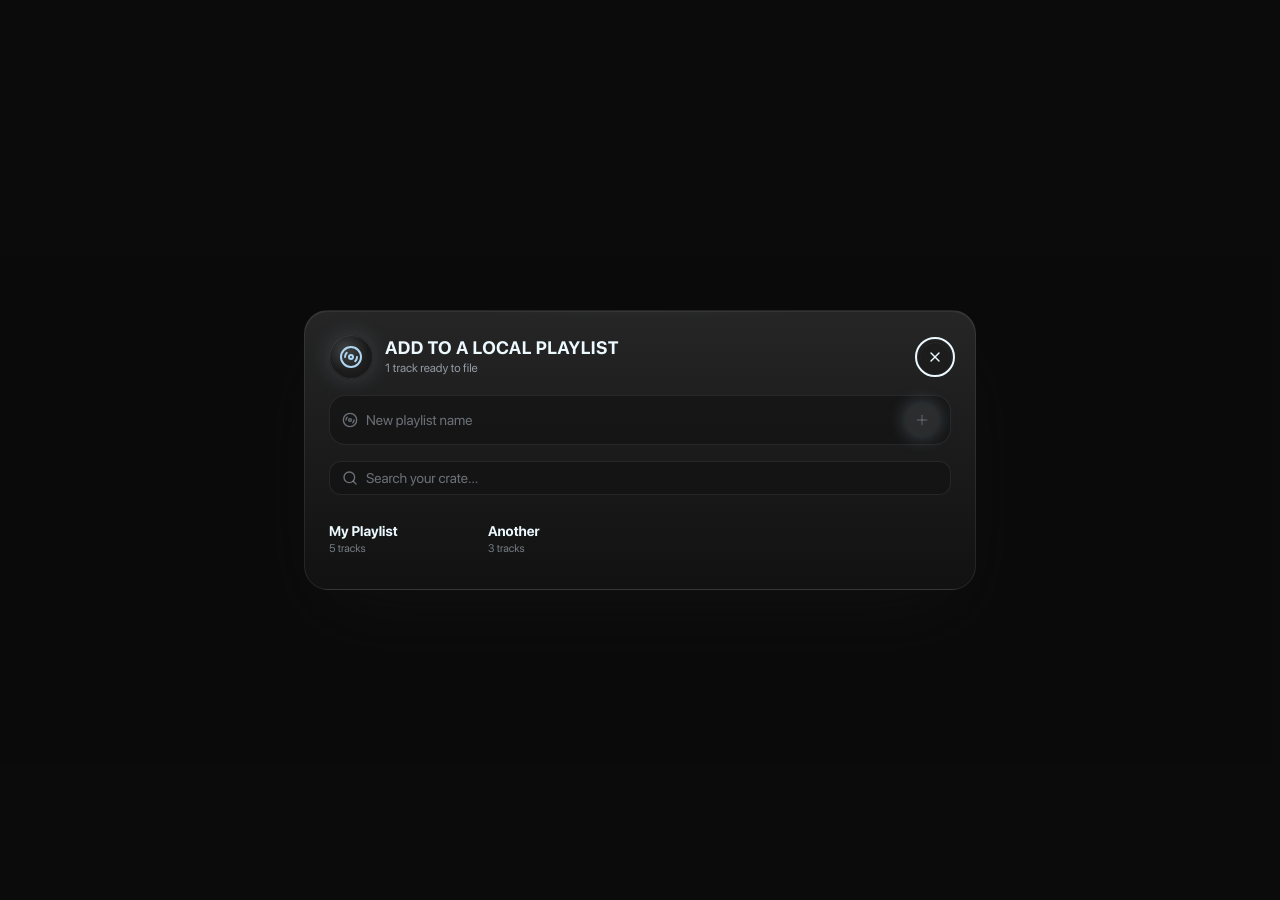
Test case: AddToPlaylistModal.svelte › error during add shows error status and does not mark as added
The image size is (1280, 900).
Expected: the text "My Playlist" is shown, [329,521,398,541]
Click the button with aria-label "Add to My Playlist": (402, 536) [329,514,474,557]
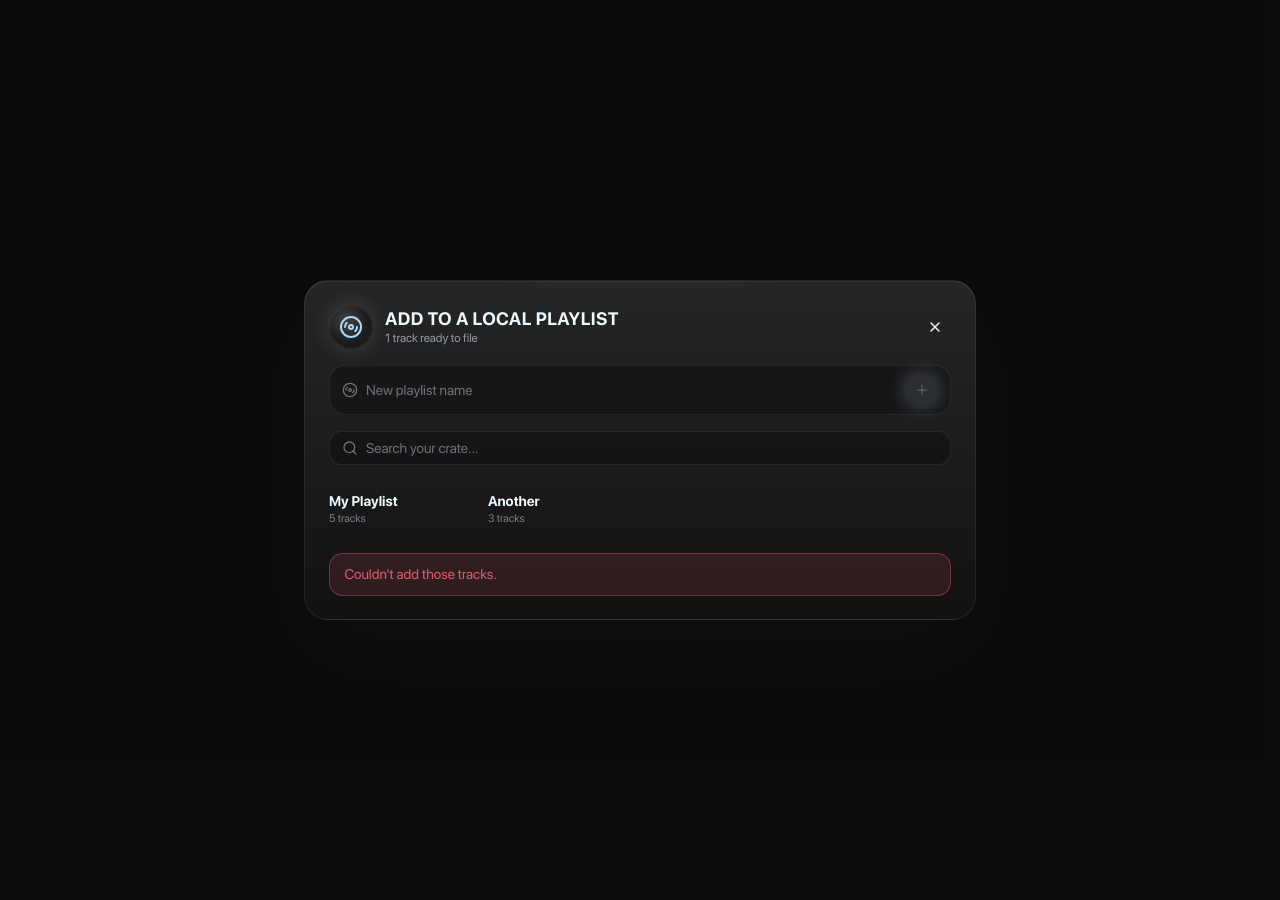
Expected: the button with aria-label "Add to My Playlist" is shown, [329,485,474,528]
Expected: the text "Couldn't add those tracks." is shown, [344,566,497,582]
